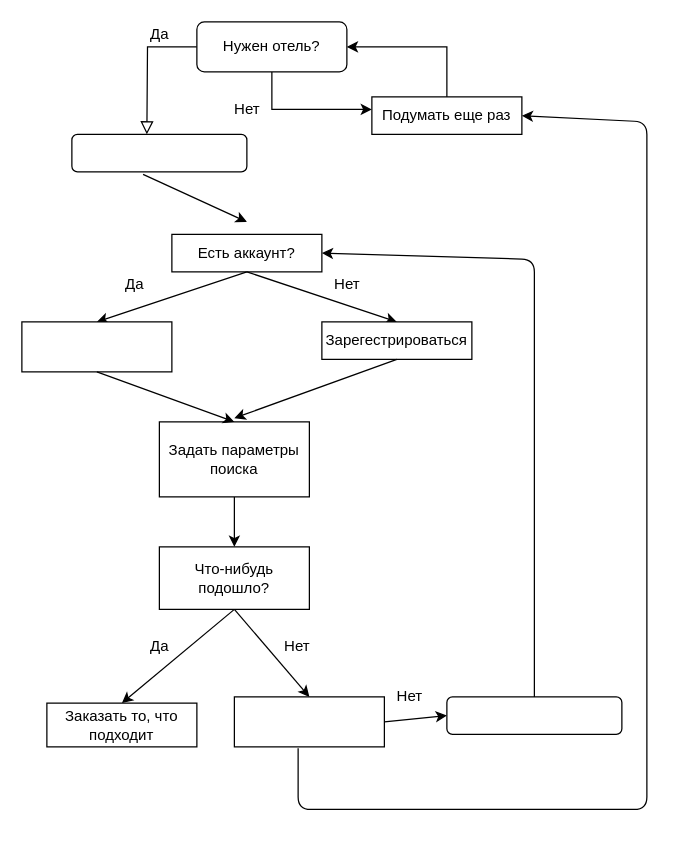
The diagram is 679 pixels wide and 841 high, and some of its shapes have lost their labels. Each missing label, with the centre of its shape:
"Ввести в браузере https://www.airbnb.com/" goes at (534,715).
"Ввести в браузере https://www.booking.com/" goes at (159,152).
"Войти в аккаунт" goes at (96,346).
"На Airbnb.com смотрел?" goes at (308,721).
